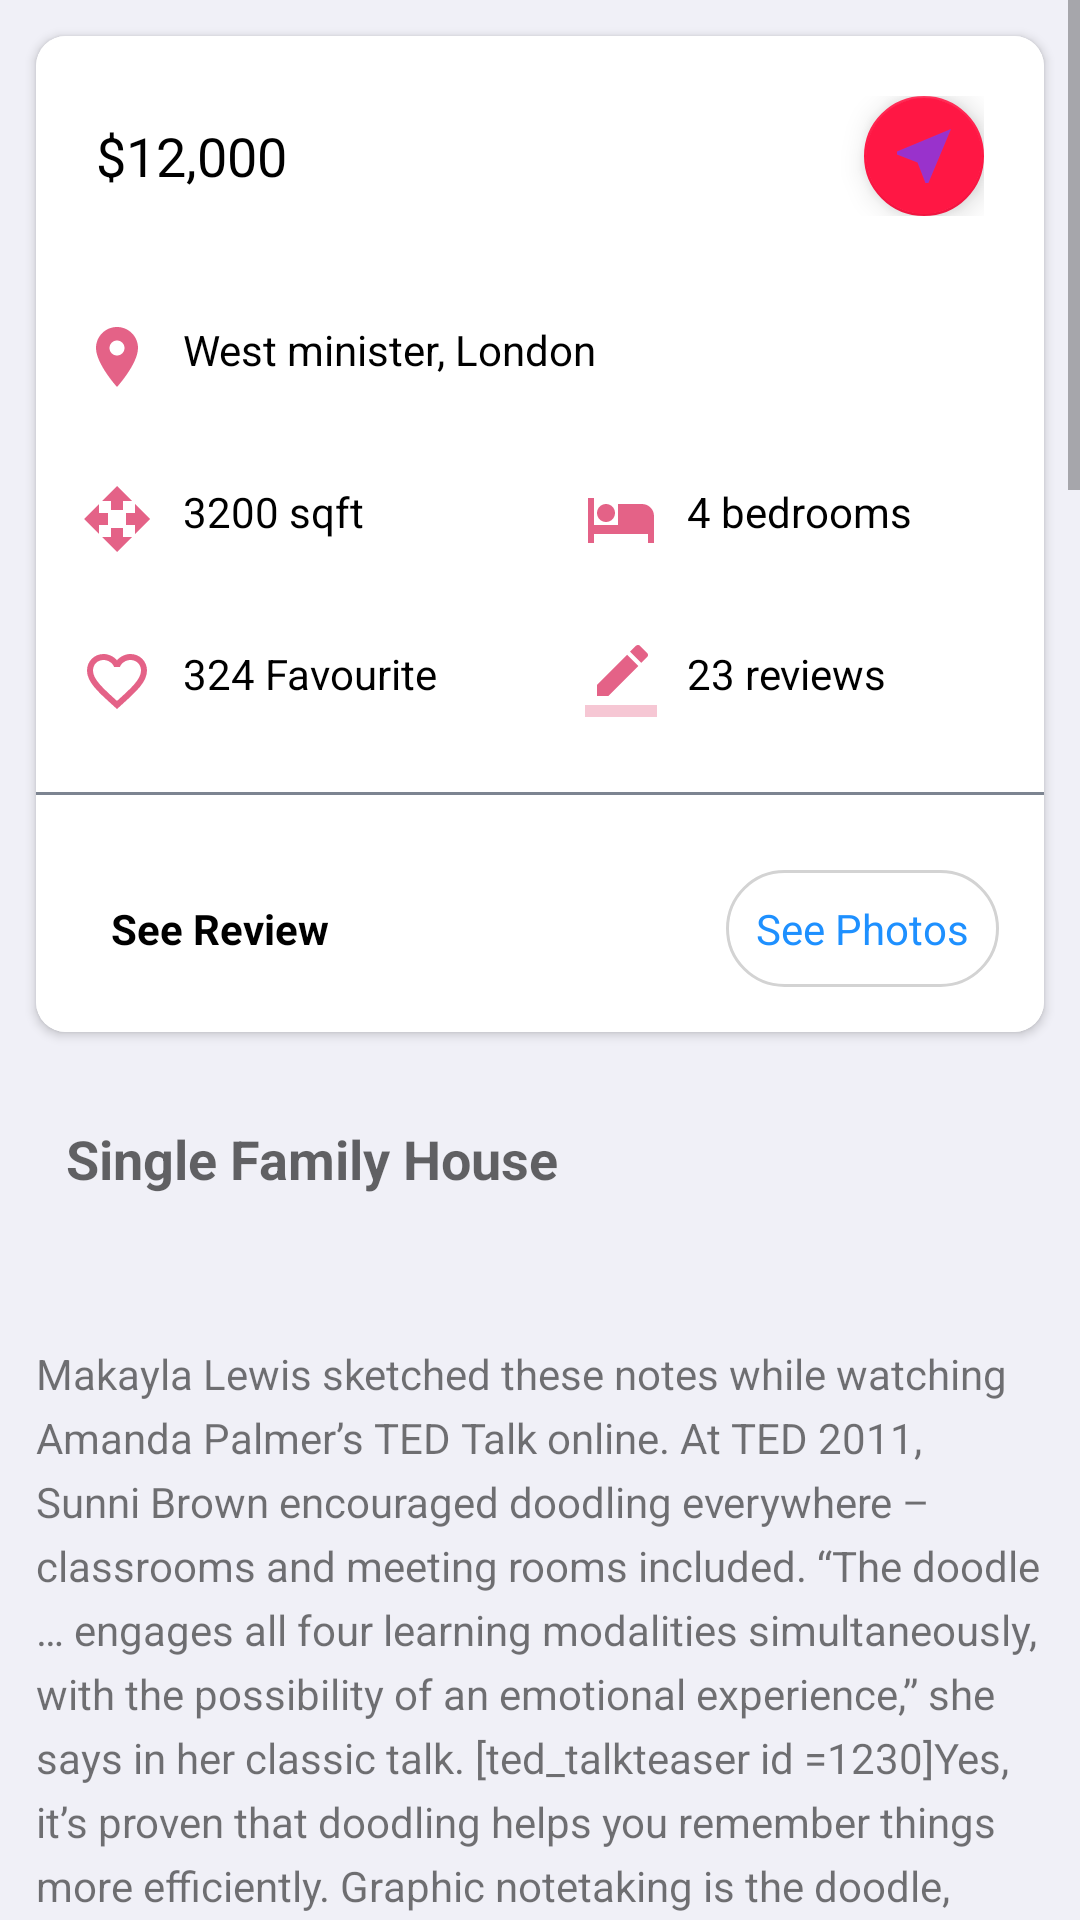

Icons on this 1080 × 1920 Android screen, each with its box as BBox(x1, y1, x2, y2):
favorite border: BBox(87, 654, 147, 709)
local hotel: BBox(588, 498, 654, 543)
location: BBox(96, 327, 138, 387)
near me: BBox(864, 96, 984, 216)
open with: BBox(84, 486, 150, 552)
